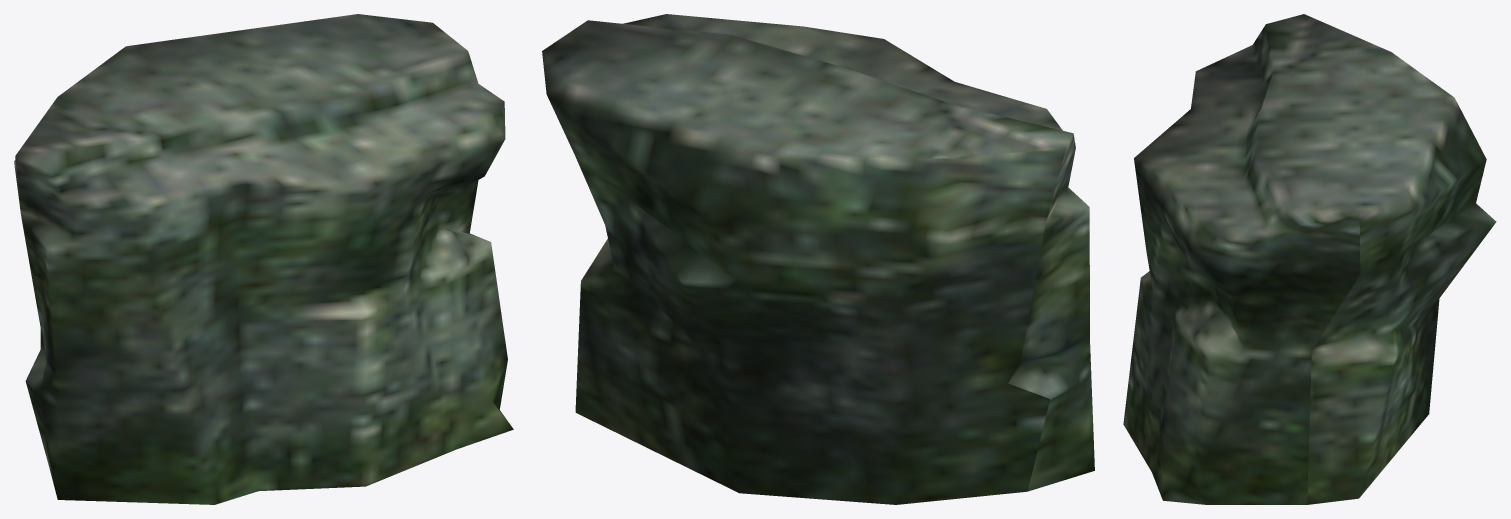
File: lianqizong_shitou04_st.FBX
3 renders of one model, left to right at view 1: azimuth 30°, elevation 25°; view 2: azimuth 150°, elevation 25°; view 3: azimuth 270°, elevation 25°, orthographic. The views are drawn at different scales.
Visible parts, largest first — view 1: lianqizong_shitou04_st_A; view 2: lianqizong_shitou04_st_A; view 3: lianqizong_shitou04_st_A.
Boxes of the visible parts, box(x1,y1,x2,y2) form: lianqizong_shitou04_st_A: box(14, 14, 513, 504); lianqizong_shitou04_st_A: box(542, 14, 1094, 504); lianqizong_shitou04_st_A: box(1123, 14, 1496, 504).
Bounding box in the file's own units: 132 × 90.79 × 102.
